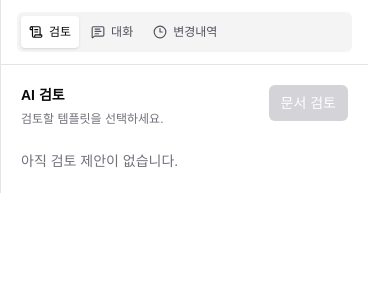
Test: AiWorkspacePanel › shows execution and persistence status separately and blocks fork until saved
The image size is (385, 282).
Click the tab "대화".
click(112, 32)  # box [83, 16, 141, 48]
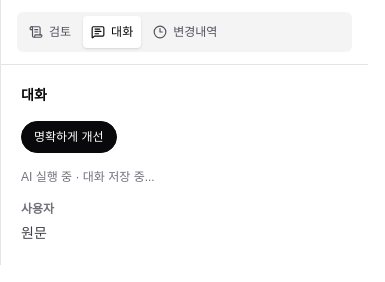
Check: the text "AI 실행 중 · 대화 저장 중..." is shown, box [21, 169, 155, 185]
